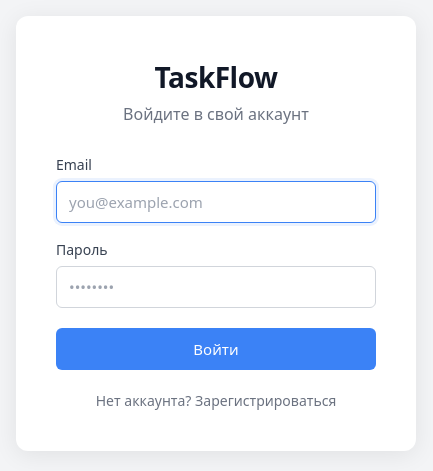
Test: LoginForm — отправка › блокирует кнопку во время загрузки
The image size is (433, 471).
Type "test@example.com" into the field labelled "Email" at point(216, 202), box 56,180 -> 376,222
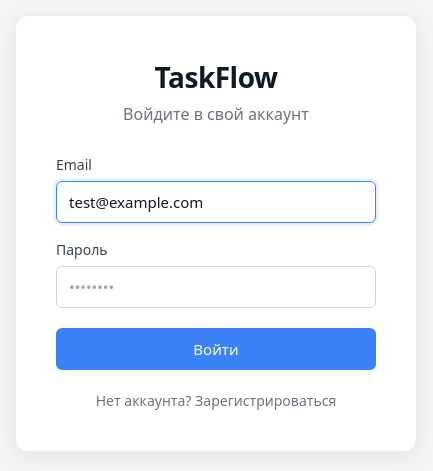
Type "password123" into the password field labelled "Пароль" at point(216, 286), box 56,266 -> 376,308
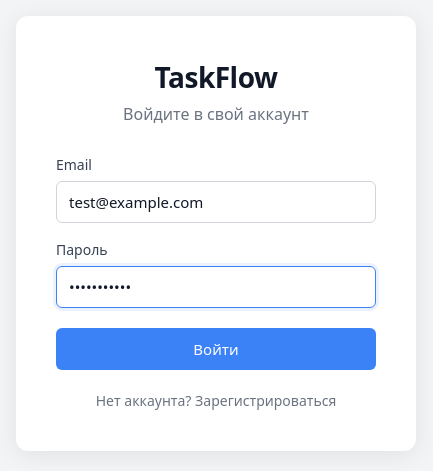
Click the button "Войти" at point(216, 348), box 56,328 -> 376,370
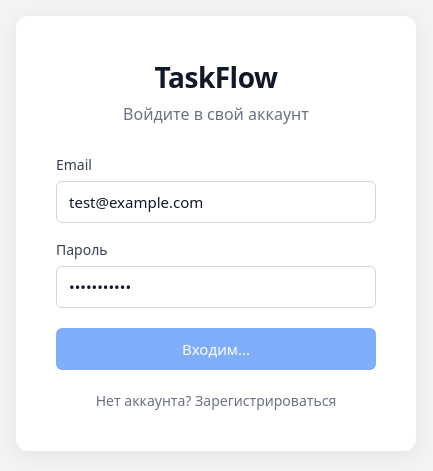
Expected: the button "Входим..." is disabled, 56,328 -> 376,370
